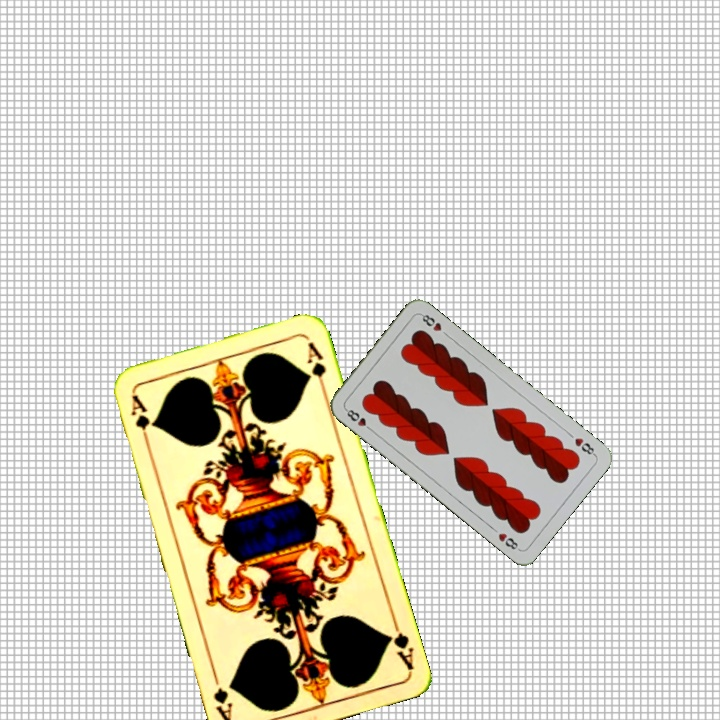GA: (383, 614, 416, 672), (127, 391, 155, 447)
H8: (341, 404, 376, 434), (570, 433, 598, 459)
